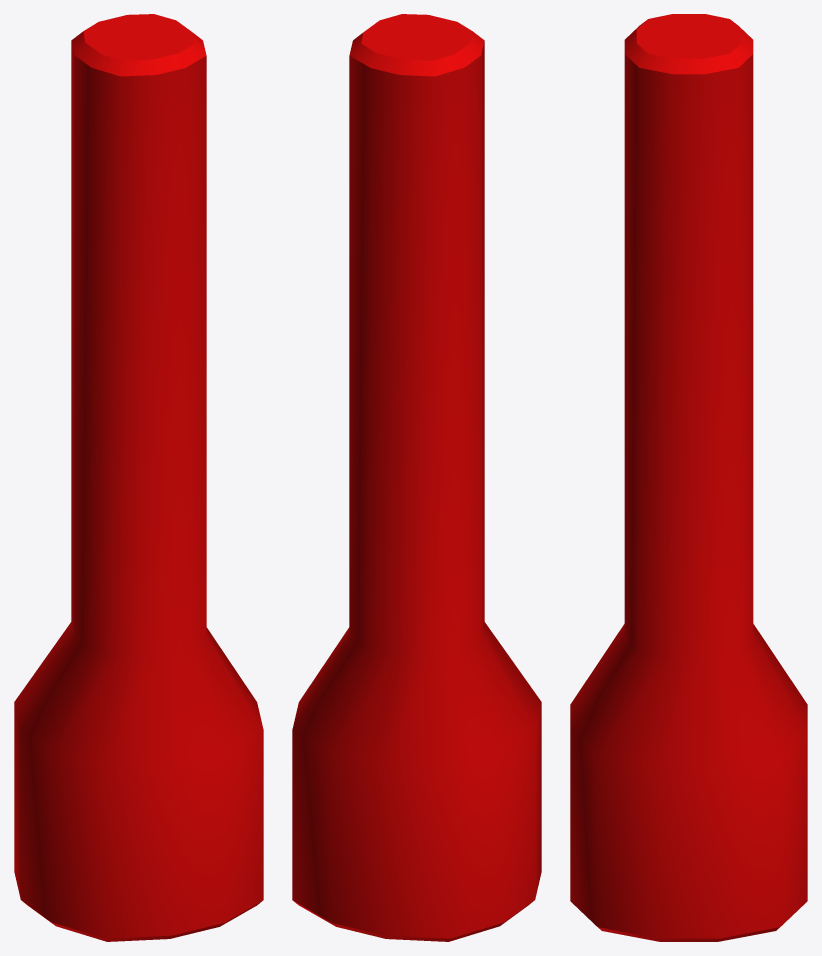
The model's file is redFlashlight.fbx.
3 views of the same model, side by side, from view 1: azimuth 30°, elevation 25°; view 2: azimuth 150°, elevation 25°; view 3: azimuth 270°, elevation 25° (orthographic).
Visible parts, largest first — view 1: redFlashlight1; view 2: redFlashlight1; view 3: redFlashlight1.
Boxes of the visible parts, x1,y1,x2,y2 form: redFlashlight1: [14, 14, 263, 941]; redFlashlight1: [292, 14, 541, 941]; redFlashlight1: [570, 14, 807, 941].
Size of the model in its own units: 0.1136 by 0.4506 by 0.1131.
